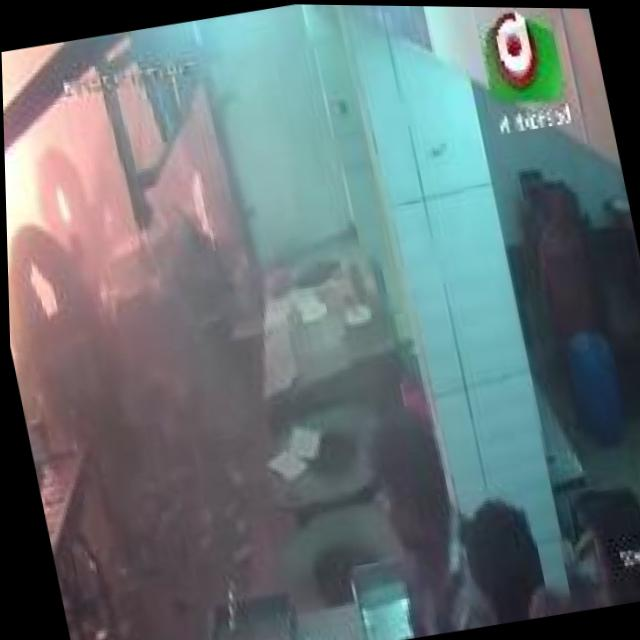fire: (2, 66, 62, 295)
